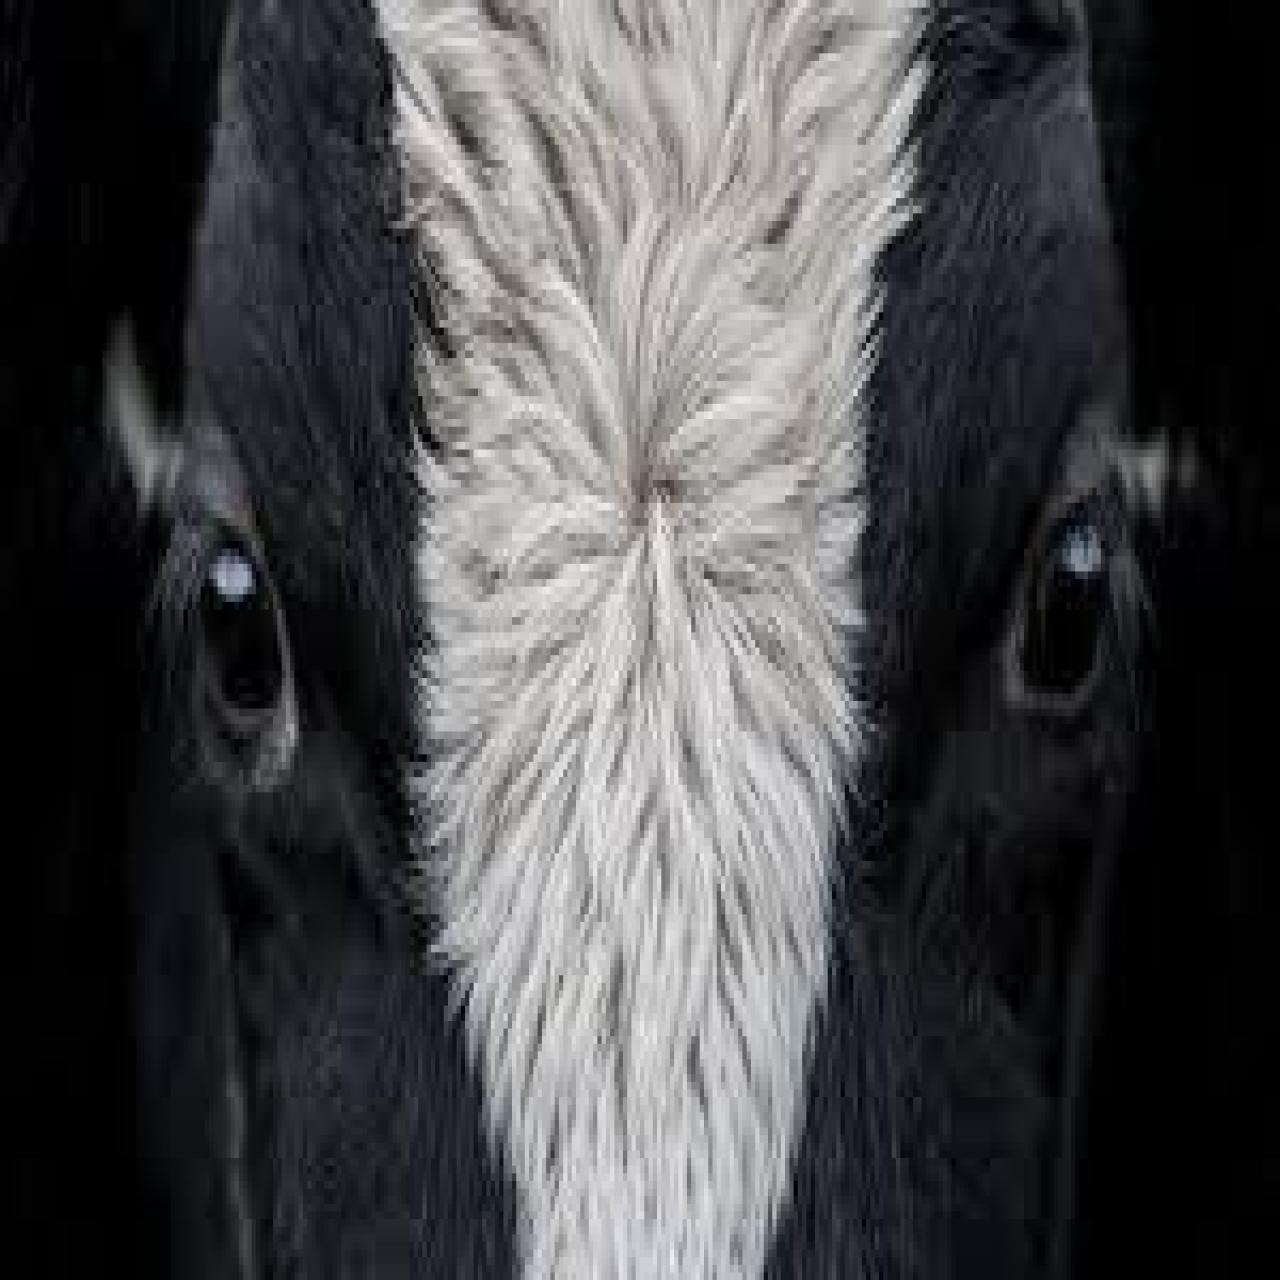cow: (101, 0, 1145, 1280)
